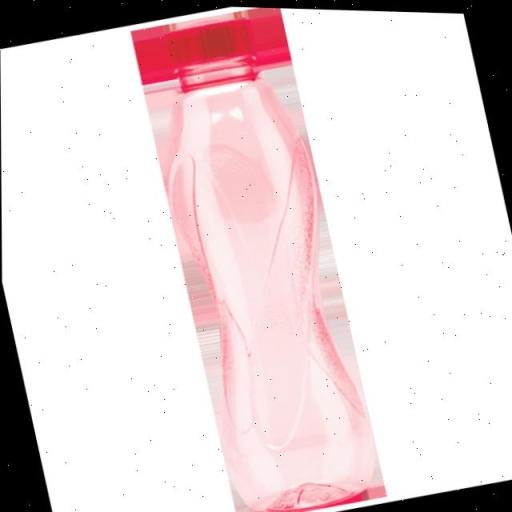plastic: (132, 3, 382, 512)
